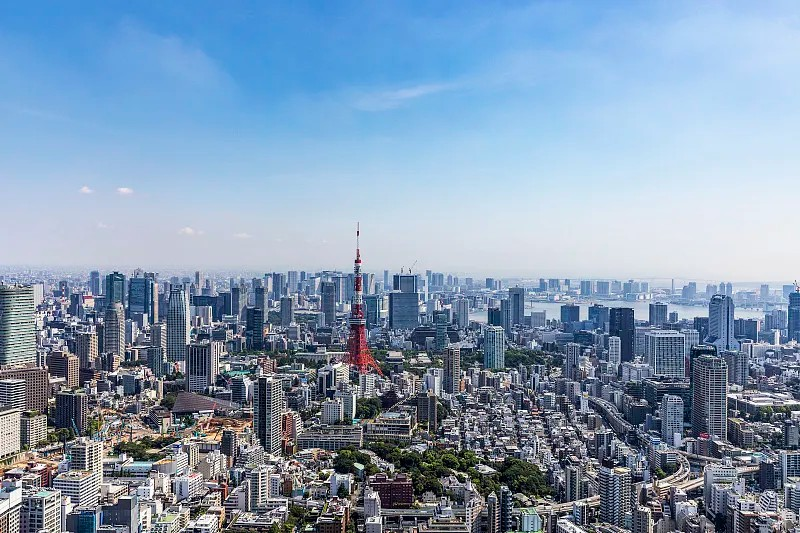Tokyo: (339, 218, 384, 376)
